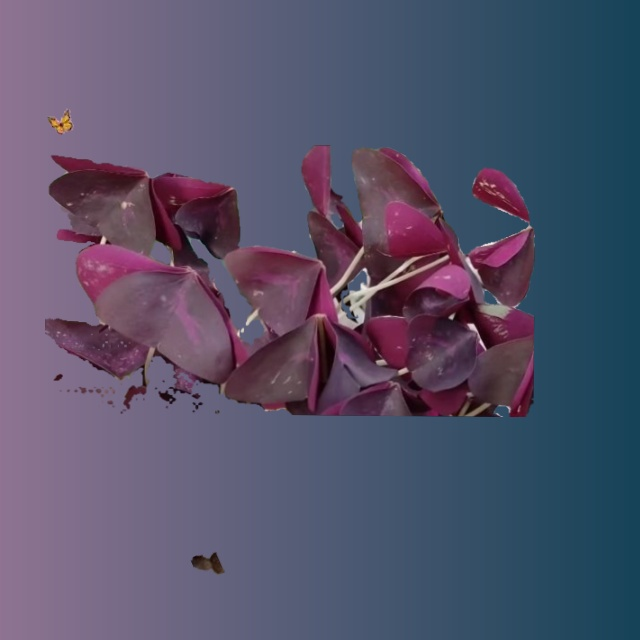butterfly flower: (45, 145, 534, 416), (48, 109, 72, 133)
jasmine: (191, 552, 224, 573)
